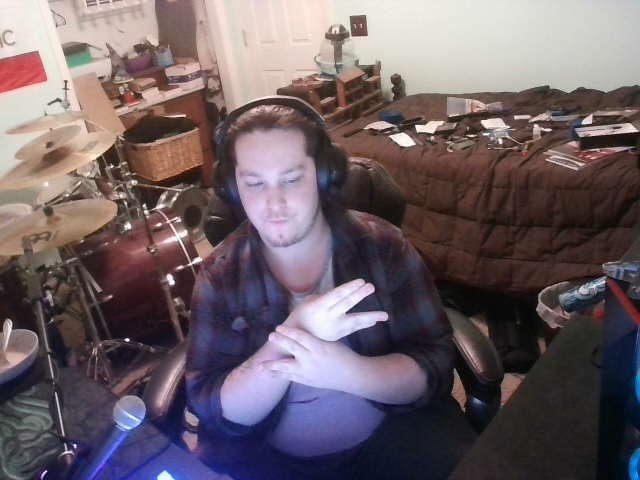world: (242, 276, 403, 396)
